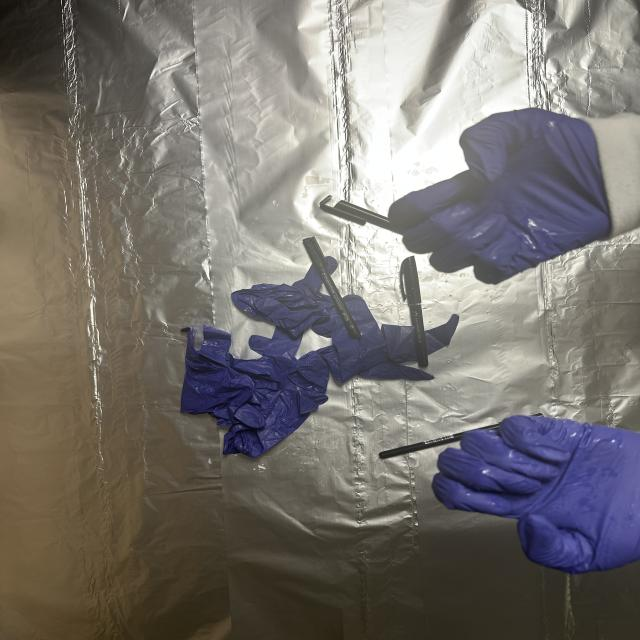gloves_contaminated: (388, 109, 612, 284), (432, 415, 640, 574)
